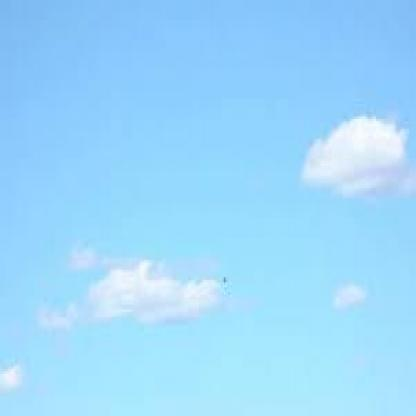Drone: (218, 272, 239, 314)
